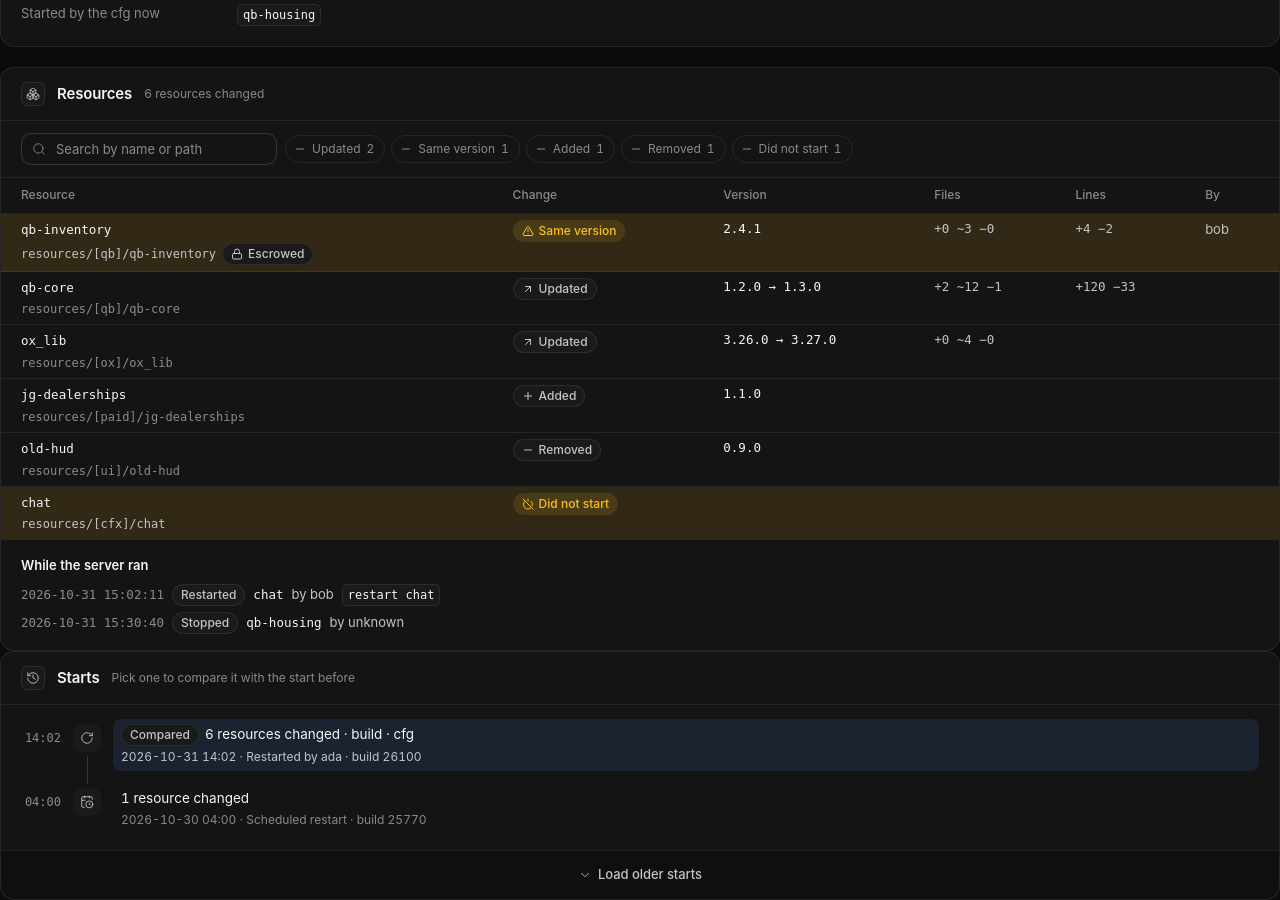
it: ChangesPage › should read older starts only when asked, from where the newest page stops
The width and height of the screenshot is (1280, 900).
(page scrolled)
Click the button "Load older starts".
click(640, 875)  # box x1=567 y1=859 x2=713 y2=891
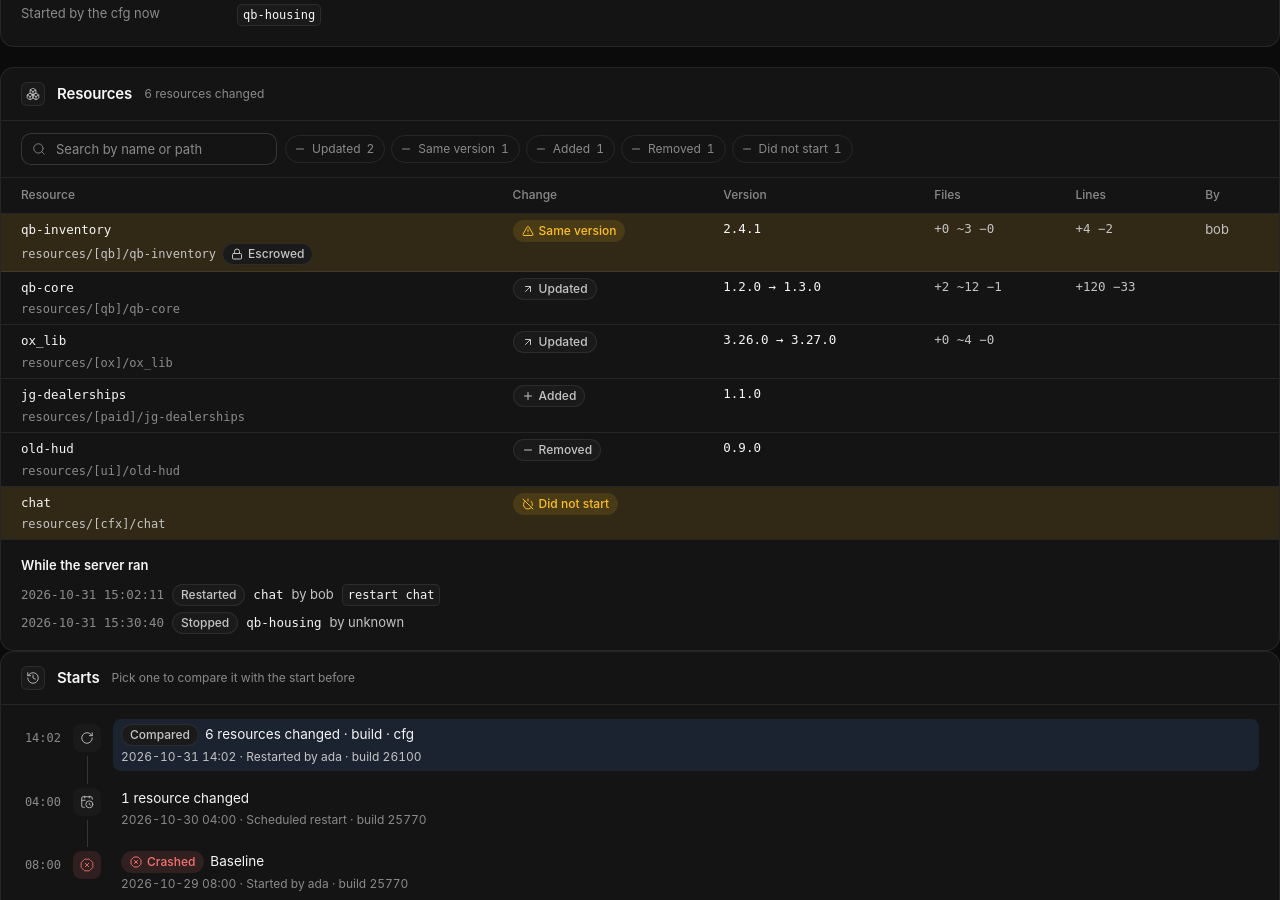
Result: the button "Load older starts" is gone
